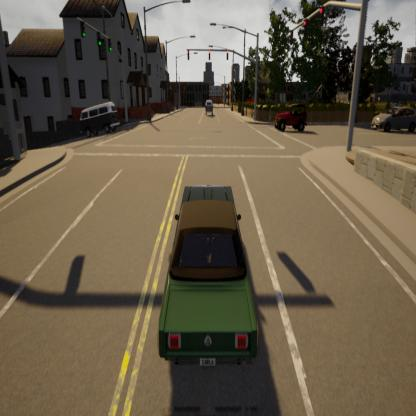Cars: (157, 187, 260, 370), (79, 104, 121, 139), (371, 105, 416, 136), (276, 102, 308, 134), (203, 98, 215, 118)
